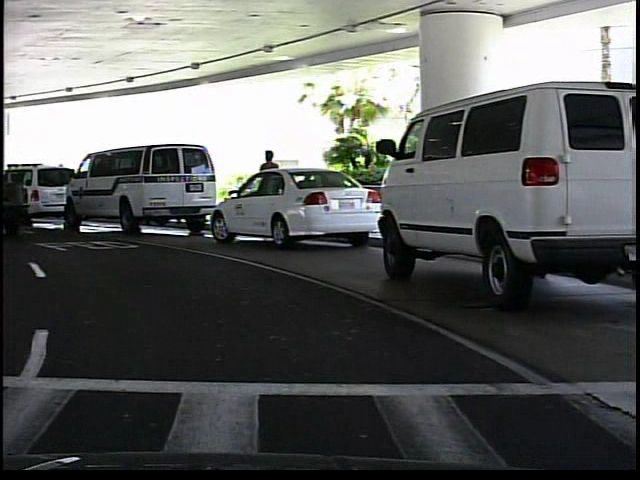person: (256, 144, 284, 226)
